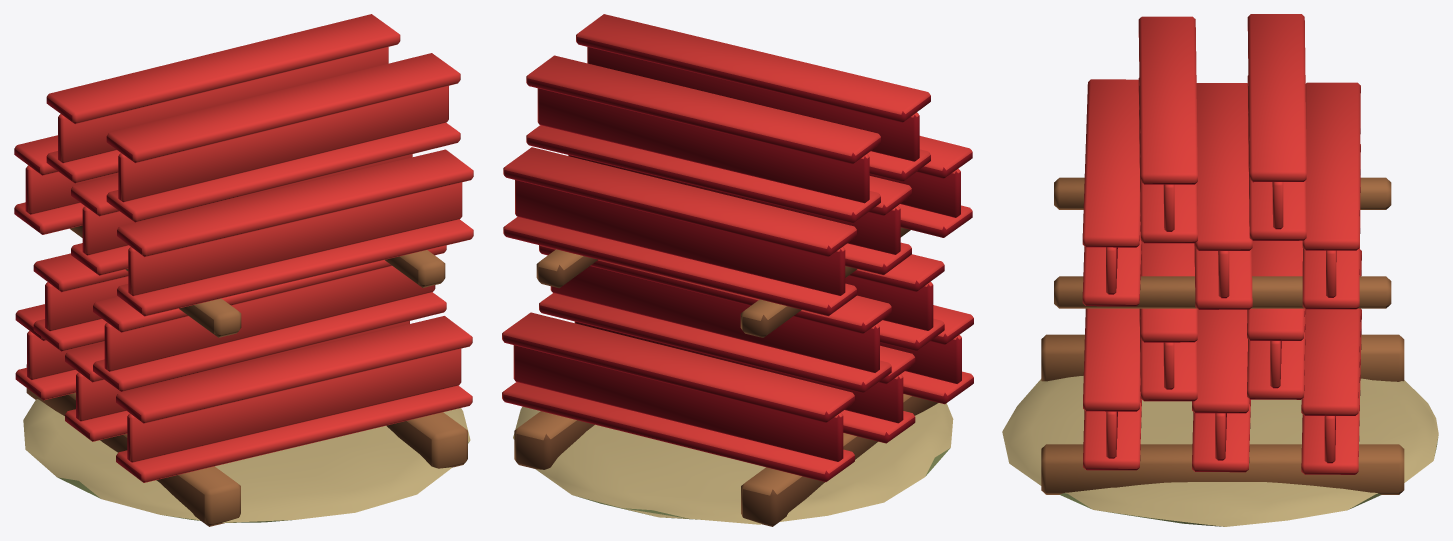
File: GirderStack.fbx
The picture shows the model from 3 angles, left to right: view 1: azimuth 30°, elevation 25°; view 2: azimuth 150°, elevation 25°; view 3: azimuth 270°, elevation 25°; orthographic projection.
Parts seen in each view (by area): view 1: GirderStack; view 2: GirderStack; view 3: GirderStack.
Boxes of the visible parts, <box> form: GirderStack: <box>14,14,473,526</box>; GirderStack: <box>502,14,973,526</box>; GirderStack: <box>1002,14,1438,526</box>.
Size of the model in its own units: 1.71 by 1.46 by 1.68.
1 material, 1 textured.
